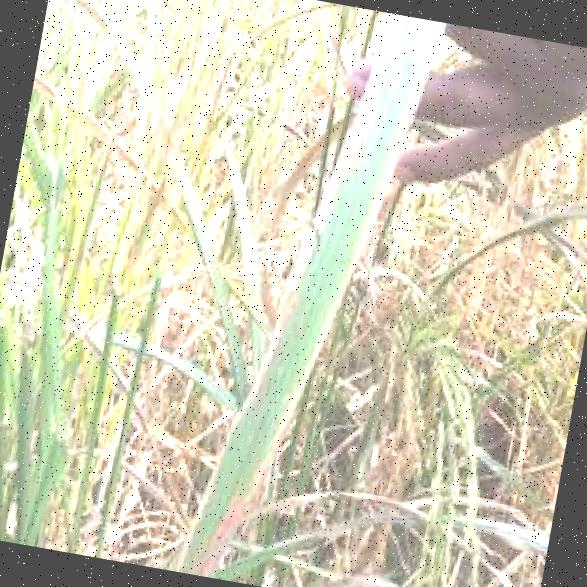Bacteria_Leaf_Blight: (219, 3, 402, 490)
